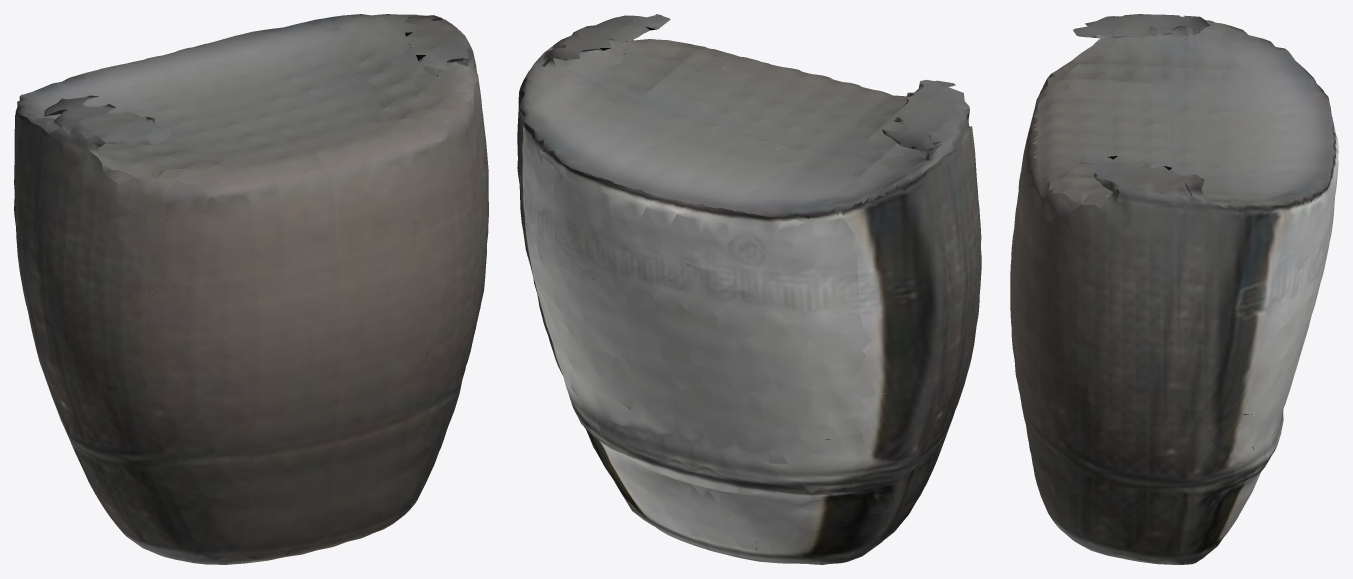
Rendered from water-cup.glb.
3 renders of one model, left to right at view 1: azimuth 30°, elevation 25°; view 2: azimuth 150°, elevation 25°; view 3: azimuth 270°, elevation 25°, orthographic. The views are drawn at different scales.
Visible parts, largest first — view 1: geometry_0; view 2: geometry_0; view 3: geometry_0.
Boxes of the visible parts, left/top/right/bottom form: geometry_0: left=14, top=14, right=488, bottom=564; geometry_0: left=517, top=14, right=981, bottom=564; geometry_0: left=1010, top=14, right=1338, bottom=564.
Size of the model in its own units: 0.6129 by 0.6281 by 0.4361.
Materials: 1 (1 with a texture image).
